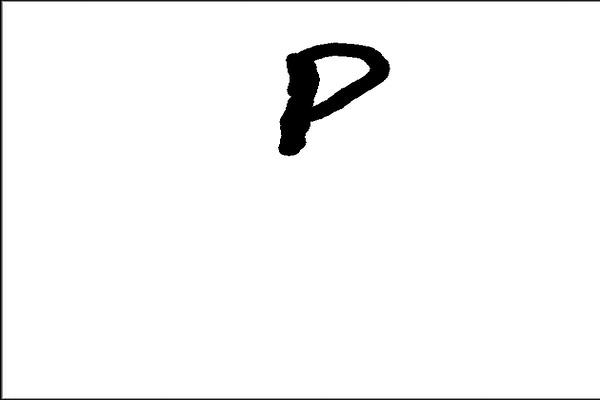P: (267, 26, 389, 159)
